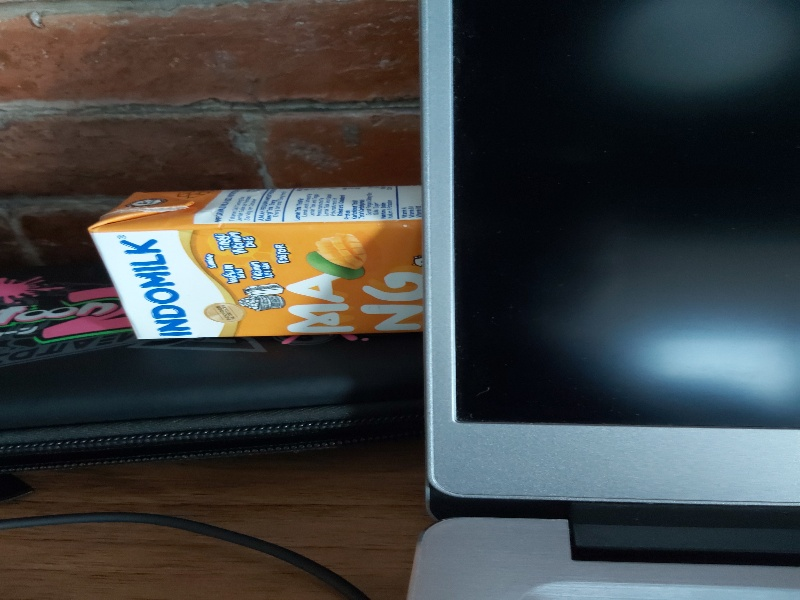mangga: (85, 185, 427, 342)
